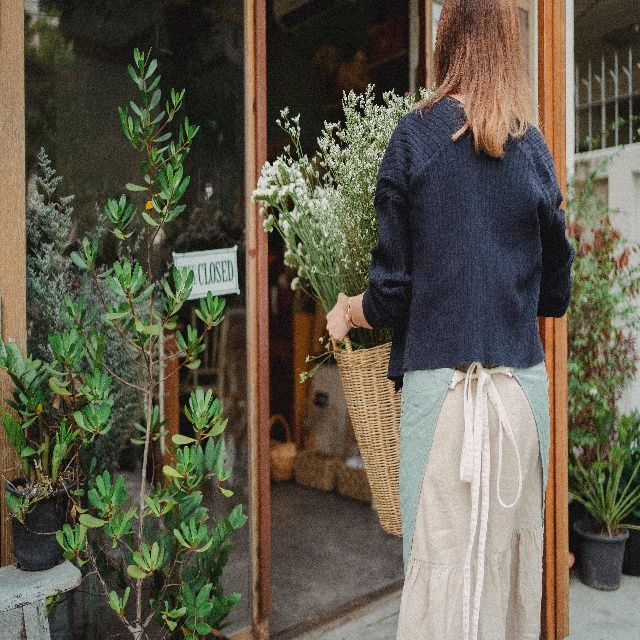Sin_guantes: (324, 292, 350, 344)
